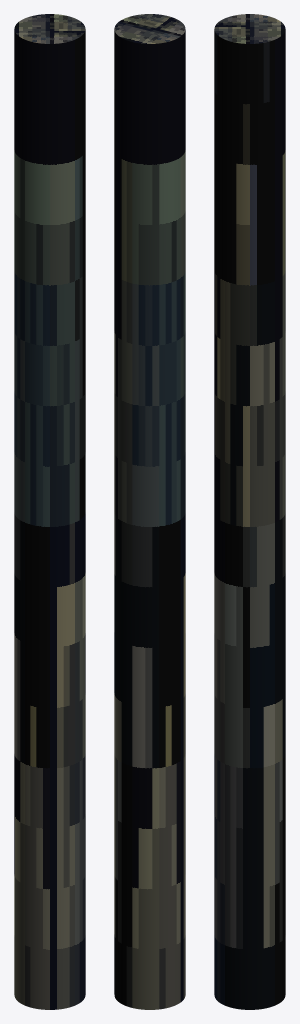
The model's file is light_lamppost.glb.
3 views of the same model, side by side, from view 1: azimuth 90°, elevation 25°; view 2: azimuth 150°, elevation 25°; view 3: azimuth 270°, elevation 25° (orthographic).
Visible parts, largest first — view 1: MeshInstance3D; view 2: MeshInstance3D; view 3: MeshInstance3D.
Part boxes in pixels (x1,y1,x2,y2): MeshInstance3D: [14, 14, 85, 1009]; MeshInstance3D: [114, 14, 185, 1009]; MeshInstance3D: [214, 14, 285, 1009].
Bounding box in the file's own units: 0.2 × 3 × 0.2.
Materials: 1 (1 with a texture image).
